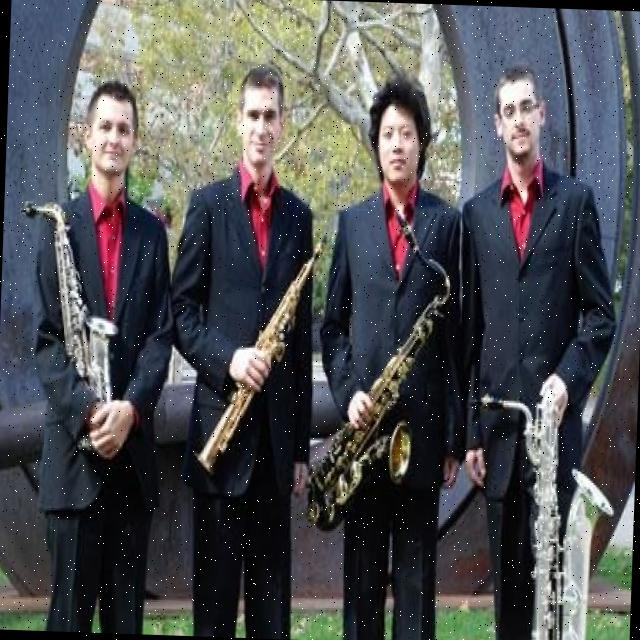saxophone: (304, 208, 455, 540), (459, 381, 620, 640), (10, 189, 126, 465)
